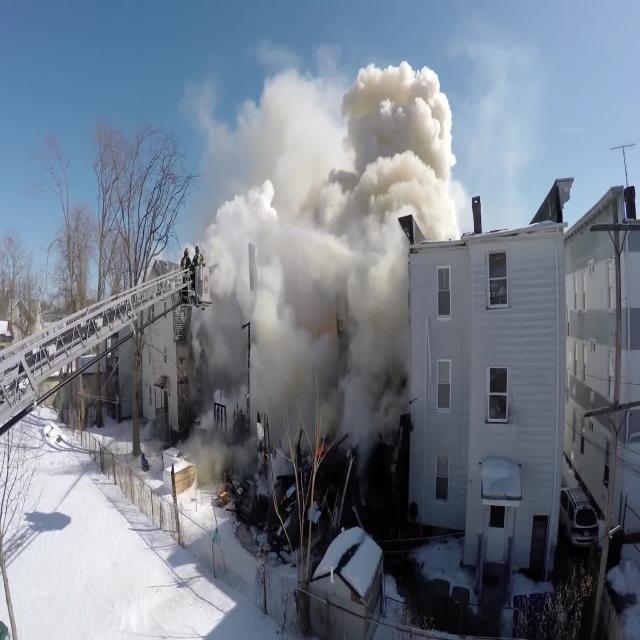Smoke: (220, 154, 414, 473), (188, 63, 461, 233)
